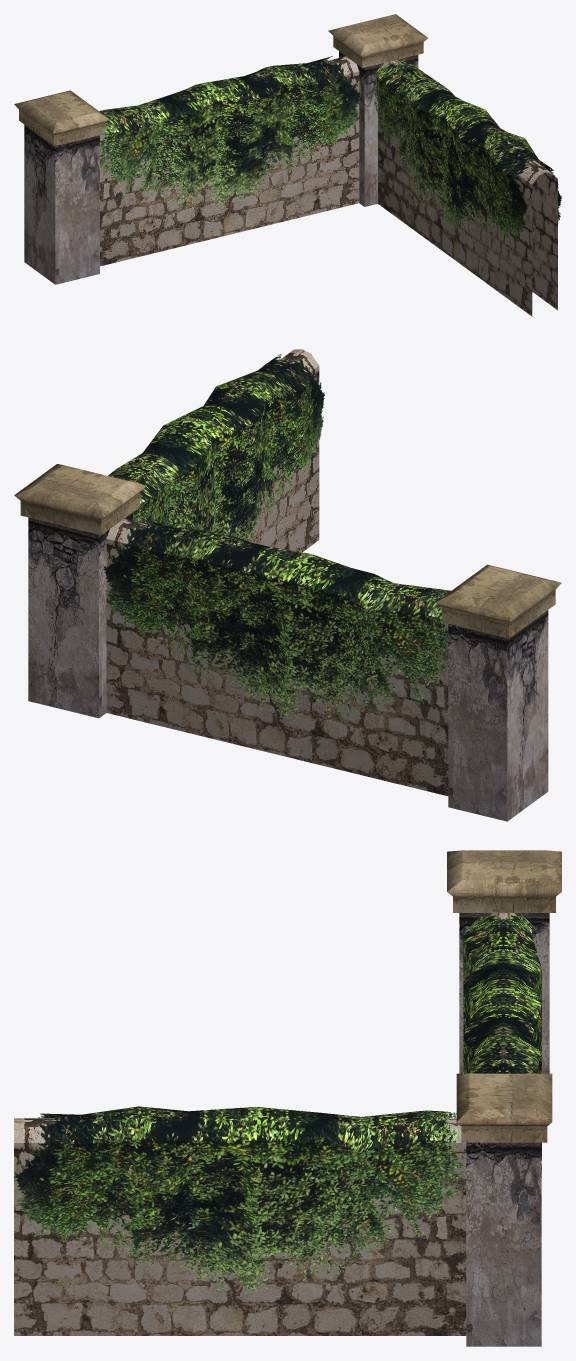
File: Wall_Left_01.fbx
3 views of the same model, one above another, from view 1: azimuth 30°, elevation 25°; view 2: azimuth 150°, elevation 25°; view 3: azimuth 270°, elevation 25° (orthographic). The views are drawn at different scales.
Parts seen in each view (by area): view 1: wall_left_01; view 2: wall_left_01; view 3: wall_left_01.
Part boxes in pixels (box(x1,y1,x2,y2)): wall_left_01: box(14, 14, 561, 316); wall_left_01: box(14, 349, 561, 821); wall_left_01: box(14, 850, 561, 1346).
Size of the model in its own units: 8.5 by 3.45 by 7.27.
